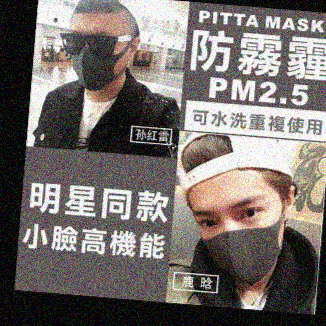with_mask: (188, 192, 283, 287), (67, 29, 120, 92)
